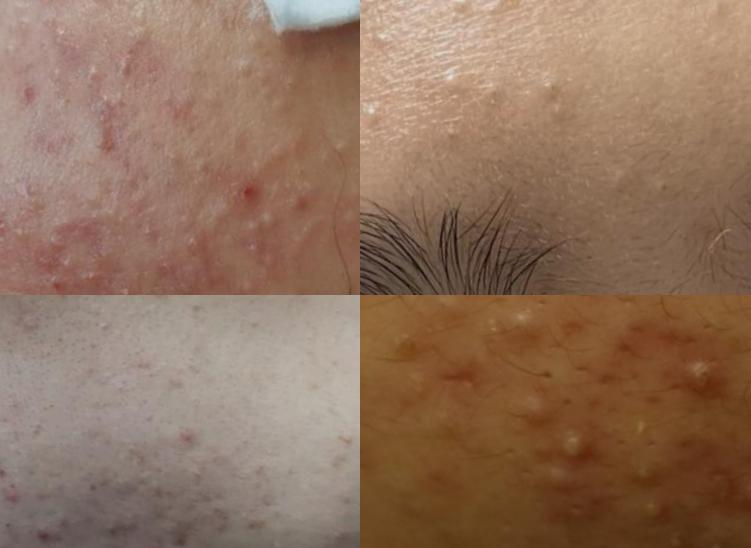acne_scars: (155, 524, 206, 548)
blackhead: (431, 125, 484, 162), (652, 176, 689, 221), (46, 333, 75, 360), (143, 296, 171, 320)
cystic: (738, 481, 751, 511)
papular: (27, 518, 69, 548), (1, 484, 32, 511)
purulent: (674, 350, 731, 411), (629, 488, 679, 535), (513, 392, 559, 439), (551, 426, 592, 476), (504, 304, 542, 352), (623, 454, 668, 490)
whitehead: (532, 67, 577, 131), (361, 10, 413, 63), (239, 210, 283, 269), (400, 362, 439, 414), (279, 213, 321, 260), (430, 66, 477, 108), (213, 49, 262, 88), (73, 55, 115, 98), (618, 413, 659, 454), (318, 122, 357, 164), (179, 145, 218, 185), (475, 1, 531, 28), (361, 95, 394, 137), (476, 310, 514, 344), (705, 1, 739, 38), (144, 475, 177, 510), (164, 1, 227, 19), (91, 516, 123, 547), (182, 466, 212, 499), (131, 218, 156, 256), (108, 274, 143, 296), (448, 1, 477, 27), (55, 251, 82, 278), (90, 314, 112, 345), (700, 531, 732, 548), (538, 1, 586, 12)
